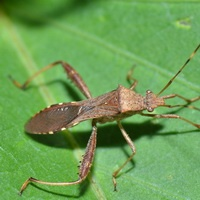insect: (12, 44, 199, 194)
